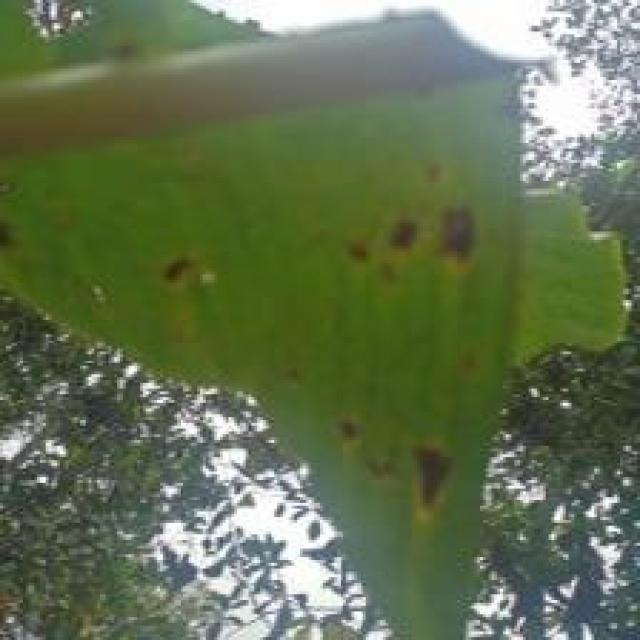Downey_mildrew: (323, 392, 488, 548), (322, 167, 499, 293), (81, 233, 239, 325), (374, 74, 536, 131), (0, 182, 41, 280)
